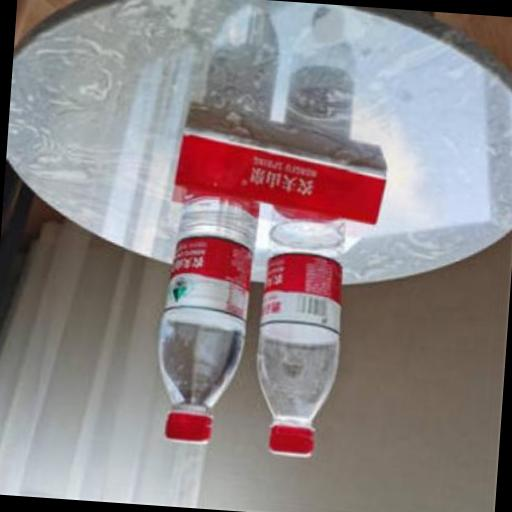Coca: (144, 130, 270, 458), (246, 172, 362, 468)
